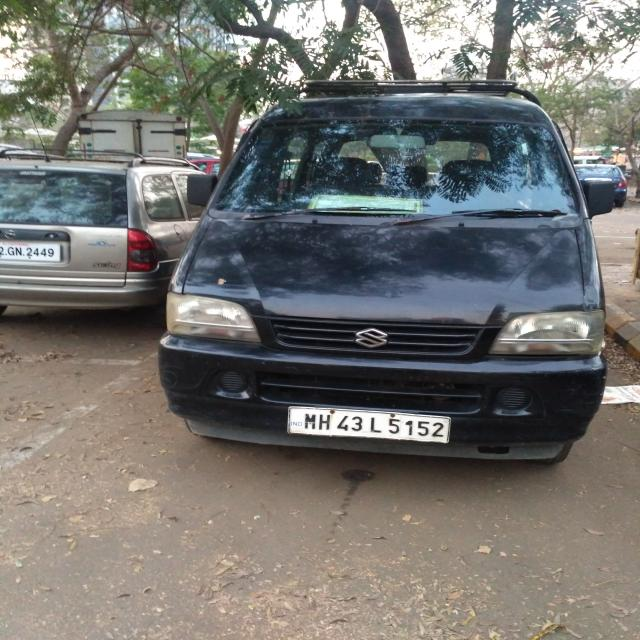Number-Plate: (292, 408, 450, 442), (0, 238, 64, 262)
